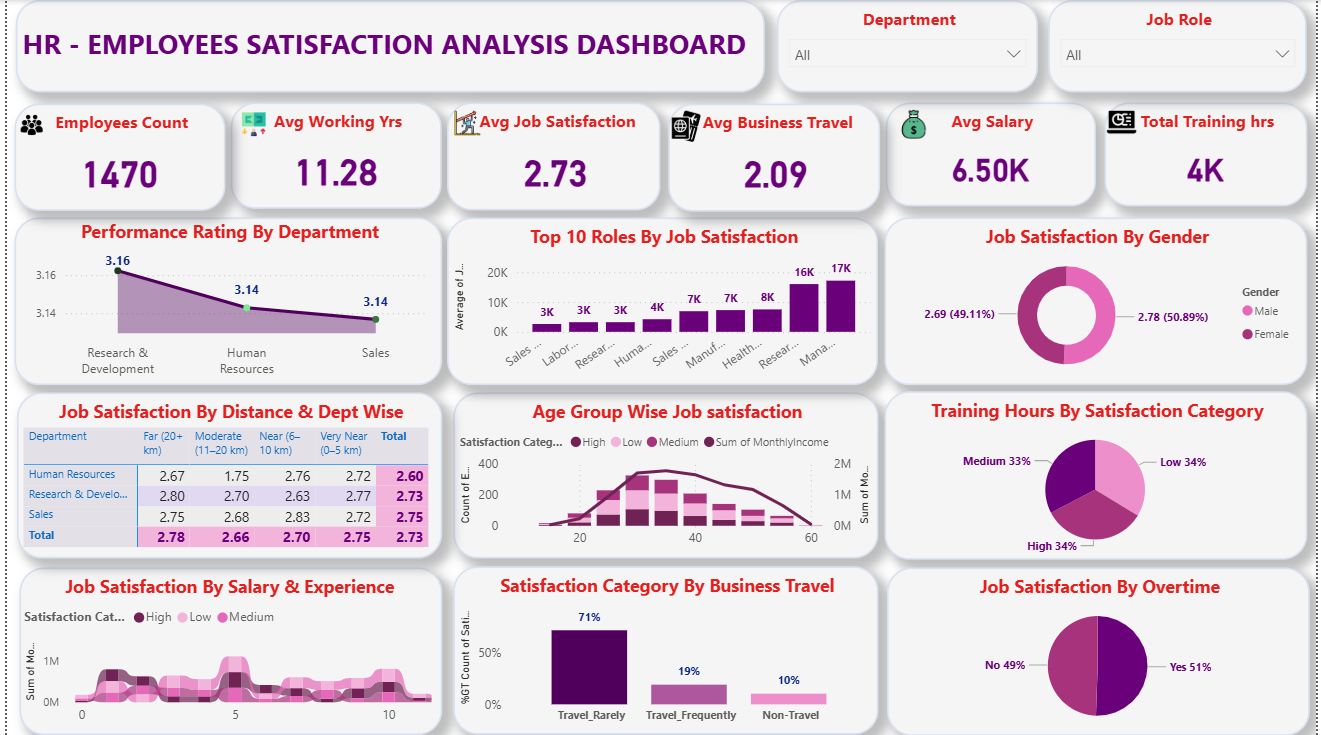

The dashboard page shown, as its layout file describes it:
{"tool":"powerbi","page":{"name":" HR Analysis","canvas":[1280,720],"ordinal":2},"visuals":[{"type":"textbox","box":[8.6,0,732.5,90.5],"z":0},{"type":"card","title":"Avg Working Yrs","fields":{"Values":["Avg(HR_Project_Power BI.TotalWorkingYears)"]},"box":[218.9,100.3,206.7,103.9],"z":1000},{"type":"card","title":"Avg Job Satisfaction","fields":{"Values":["Avg(HR_Project_Power BI.JobSatisfaction)"]},"box":[430.9,100.2,208.6,105.7],"z":2000},{"type":"card","title":"Avg Salary","fields":{"Values":["Avg(HR_Project_Power BI.MonthlyIncome)"]},"box":[859.7,100.3,205.4,101.5],"z":3000},{"type":"card","title":"Total Training hrs","fields":{"Values":["Sum(HR_Project_Power BI.TrainingTimesLastYear)"]},"box":[1073.6,100.3,198.1,101.5],"z":4000},{"type":"areaChart","title":"Performance Rating By Department","fields":{"Category":["HR_Project_Power BI.Department"],"Y":["Avg(HR_Project_Power BI.PerformanceRating)"]},"box":[7.3,212.8,418.2,163.9],"z":5000},{"type":"card","title":"Employees Count","fields":{"Values":["Count(HR_Project_Power BI.EmployeeNumber)"]},"box":[7.3,101.5,206.7,105.2],"z":6000},{"type":"image","box":[8.2,100.2,31.6,43.9],"z":7000},{"type":"image","box":[225,105.7,32.9,32.9],"z":8000},{"type":"image","box":[432.9,102.7,35.5,35.5],"z":9000},{"type":"image","box":[868.2,102.7,37.9,37.9],"z":10000},{"type":"image","box":[1069,100.2,43.9,38.4],"z":11000},{"type":"ribbonChart","title":"Job Satisfaction By Salary & Experience","fields":{"Category":["HR_Project_Power BI.YearsAtCompany"],"Y":["Sum(HR_Project_Power BI.MonthlyIncome)"],"Series":["HR_Project_Power BI.Satisfaction Category"]},"box":[12.2,555.2,413.3,163.9],"z":12000},{"type":"lineStackedColumnComboChart","title":"Age Group Wise Job satisfaction","fields":{"Category":["HR_Project_Power BI.Age (bins)"],"Y":["CountNonNull(HR_Project_Power BI.EmployeeNumber)"],"Y2":["Sum(HR_Project_Power BI.MonthlyIncome)"],"Series":["HR_Project_Power BI.Satisfaction Category"]},"box":[436.6,384,415.8,162.6],"z":13000},{"type":"columnChart","title":"Satisfaction Category By Business Travel","fields":{"Category":["HR_Project_Power BI.BusinessTravel"],"Y":["CountNonNull(HR_Project_Power BI.Satisfaction Category)"]},"box":[436.6,553.9,415.8,165.1],"z":14000},{"type":"slicer","title":"Department","fields":{"Values":["HR_Project_Power BI.Department"]},"box":[753.3,0,255.6,90.5],"z":15000},{"type":"slicer","title":"Job Role","fields":{"Values":["HR_Project_Power BI.JobRole"]},"box":[1018.6,0,253.1,90.5],"z":16000},{"type":"lineStackedColumnComboChart","title":"Top 10 Roles By Job Satisfaction","fields":{"Category":["HR_Project_Power BI.JobRole"],"Y":["Avg(HR_Project_Power BI.JobSatisfaction)","Avg(HR_Project_Power BI.MonthlyIncome)"]},"box":[430.4,212.8,421.9,163.9],"z":17000},{"type":"donutChart","title":"Job Satisfaction By Gender","fields":{"Y":["Avg(HR_Project_Power BI.JobSatisfaction)"],"Category":["HR_Project_Power BI.Gender"]},"box":[858.4,212.8,413.3,163.9],"z":18000},{"type":"pieChart","title":"Training Hours By Satisfaction Category","fields":{"Category":["HR_Project_Power BI.Satisfaction Category"],"Y":["Avg(HR_Project_Power BI.TrainingTimesLastYear)"]},"box":[858.4,382.7,413.3,165.1],"z":19000},{"type":"pieChart","title":"Job Satisfaction By Overtime ","fields":{"Y":["Avg(HR_Project_Power BI.JobSatisfaction)"],"Category":["HR_Project_Power BI.OverTime"]},"box":[860.9,554.9,413.3,165.1],"z":20000},{"type":"pivotTable","title":"Job Satisfaction By Distance & Dept Wise","fields":{"Values":["Avg(HR_Project_Power BI.JobSatisfaction)"],"Columns":["HR_Project_Power BI.Distance Group"],"Rows":["HR_Project_Power BI.Department"]},"box":[9.8,384,415.8,162.6],"z":21000},{"type":"card","title":"Avg Business Travel","fields":{"Values":["Avg(HR_Project_Power BI.Travel Sort)"]},"box":[646.3,101.5,207.2,105.7],"z":22000},{"type":"image","box":[644.4,102.7,40.4,41.6],"z":23000}]}

Visuals, with their boxes in screenshot pixels (x1, y1, x2, y2), scaled from the page's 1280x720 canvas onto the 1321x735 screenshot:
textbox: Rect(9, 0, 765, 92)
"Avg Working Yrs" card: Rect(226, 102, 439, 208)
"Avg Job Satisfaction" card: Rect(445, 102, 660, 210)
"Avg Salary" card: Rect(887, 102, 1099, 206)
"Total Training hrs" card: Rect(1108, 102, 1312, 206)
"Performance Rating By Department" areaChart: Rect(8, 217, 439, 385)
"Employees Count" card: Rect(8, 104, 221, 211)
image: Rect(8, 102, 41, 147)
image: Rect(232, 108, 266, 141)
image: Rect(447, 105, 483, 141)
image: Rect(896, 105, 935, 144)
image: Rect(1103, 102, 1149, 141)
"Job Satisfaction By Salary & Experience" ribbonChart: Rect(13, 567, 439, 734)
"Age Group Wise Job satisfaction" lineStackedColumnComboChart: Rect(451, 392, 880, 558)
"Satisfaction Category By Business Travel" columnChart: Rect(451, 565, 880, 734)
"Department" slicer: Rect(777, 0, 1041, 92)
"Job Role" slicer: Rect(1051, 0, 1312, 92)
"Top 10 Roles By Job Satisfaction" lineStackedColumnComboChart: Rect(444, 217, 880, 385)
"Job Satisfaction By Gender" donutChart: Rect(886, 217, 1312, 385)
"Training Hours By Satisfaction Category" pieChart: Rect(886, 391, 1312, 559)
"Job Satisfaction By Overtime " pieChart: Rect(888, 566, 1315, 734)
"Job Satisfaction By Distance & Dept Wise" pivotTable: Rect(10, 392, 439, 558)
"Avg Business Travel" card: Rect(667, 104, 881, 212)
image: Rect(665, 105, 707, 147)
